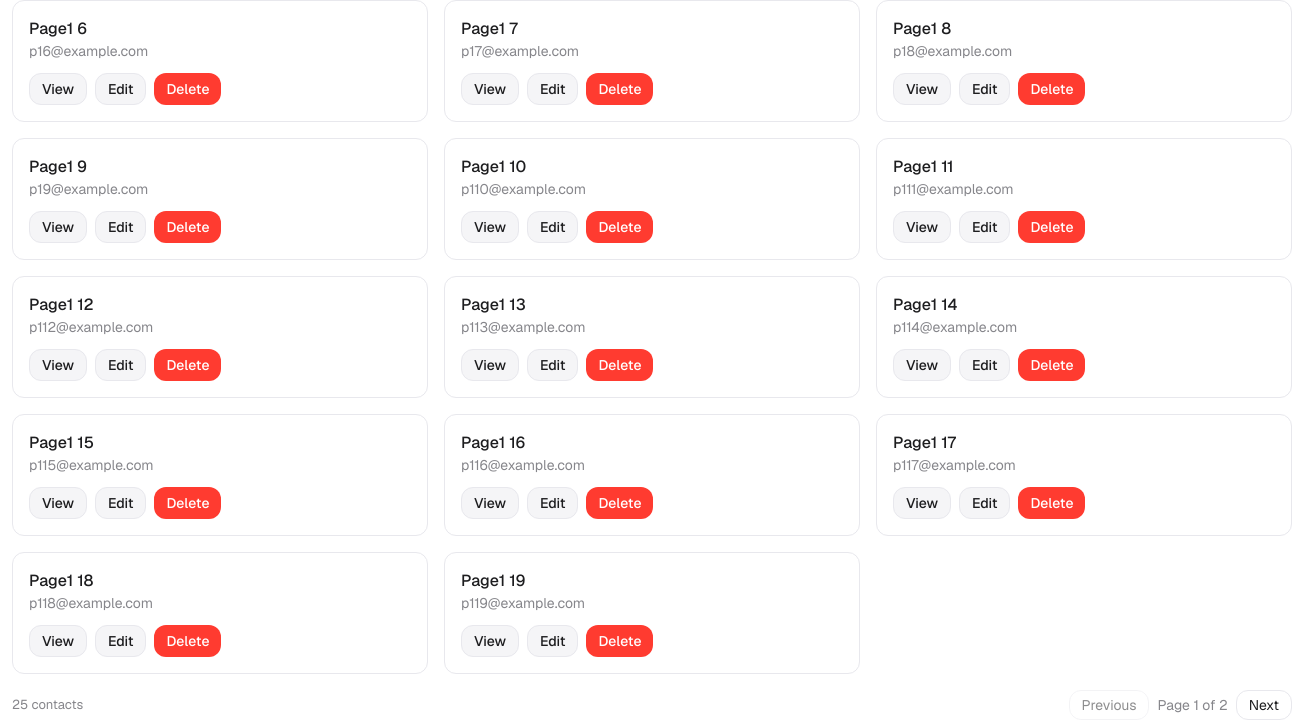
Scenario: ContactsPage › pagination › fetches the next page when Next is clicked
The width and height of the screenshot is (1304, 720).
(page scrolled)
What coordinates should you click on to do the following:
click the button "Next"
I would click on:
 (1264, 704)
Its box is [1236,690,1292,719].
(page scrolled)
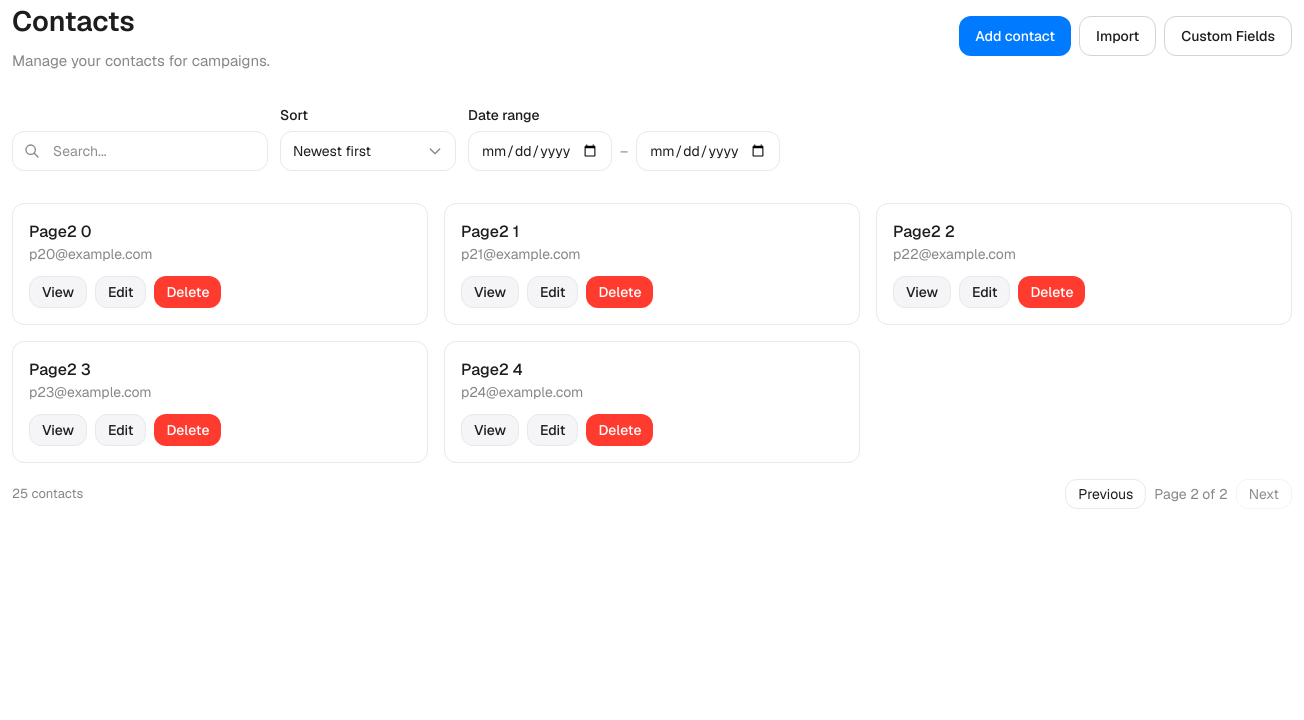
Result: the text "Page2 0" is shown at [29,220,92,242]
Result: the text "Page 2 of 2" is shown at [1154,484,1228,504]
Result: the button "Next" is disabled at [1236,478,1292,508]
